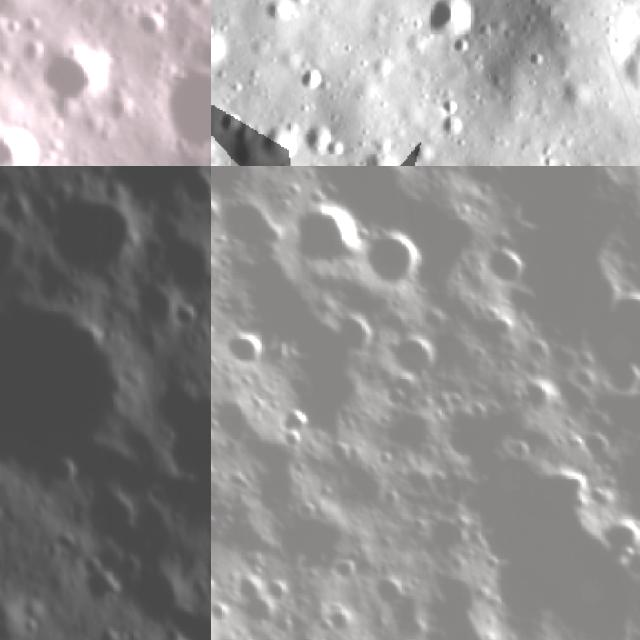crater: (0, 298, 144, 483), (36, 178, 152, 284), (130, 30, 211, 166), (405, 566, 523, 640), (280, 195, 372, 276), (35, 34, 120, 120), (353, 215, 438, 298), (211, 182, 286, 267), (382, 324, 456, 392), (107, 166, 211, 212), (472, 230, 538, 300), (585, 501, 640, 568), (321, 304, 383, 363), (213, 322, 276, 377), (419, 508, 478, 566), (409, 0, 480, 47), (595, 275, 640, 348), (0, 105, 53, 166), (271, 400, 327, 454), (249, 112, 303, 166), (211, 0, 246, 83), (291, 54, 335, 100), (296, 115, 342, 158), (444, 30, 477, 61), (152, 626, 206, 640)
